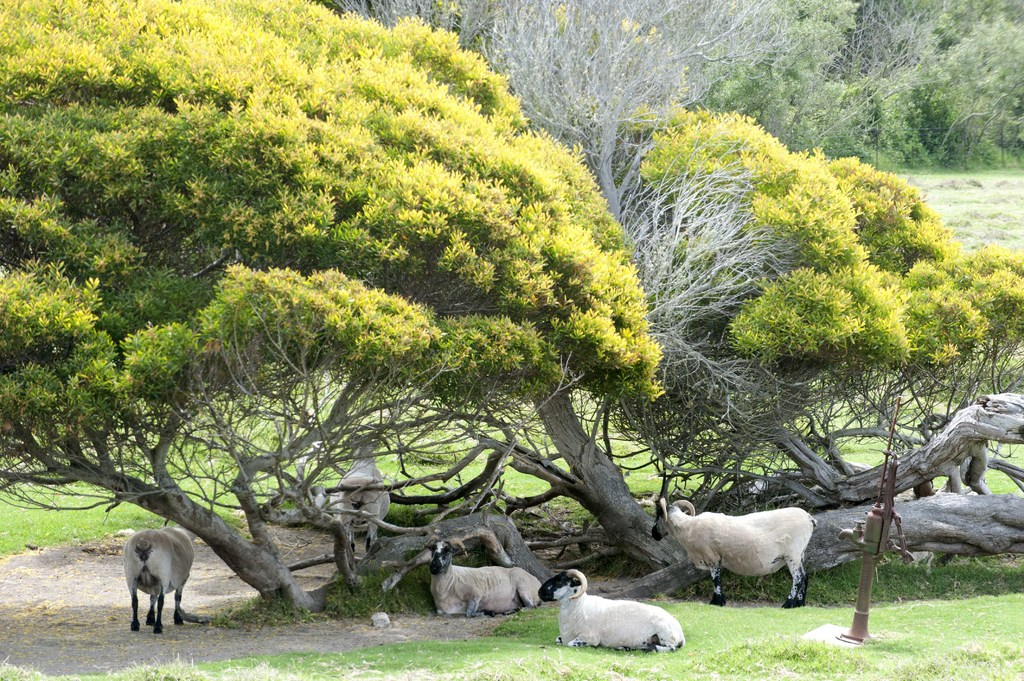sheep: (648, 497, 815, 604), (537, 570, 682, 645), (121, 526, 196, 632)
